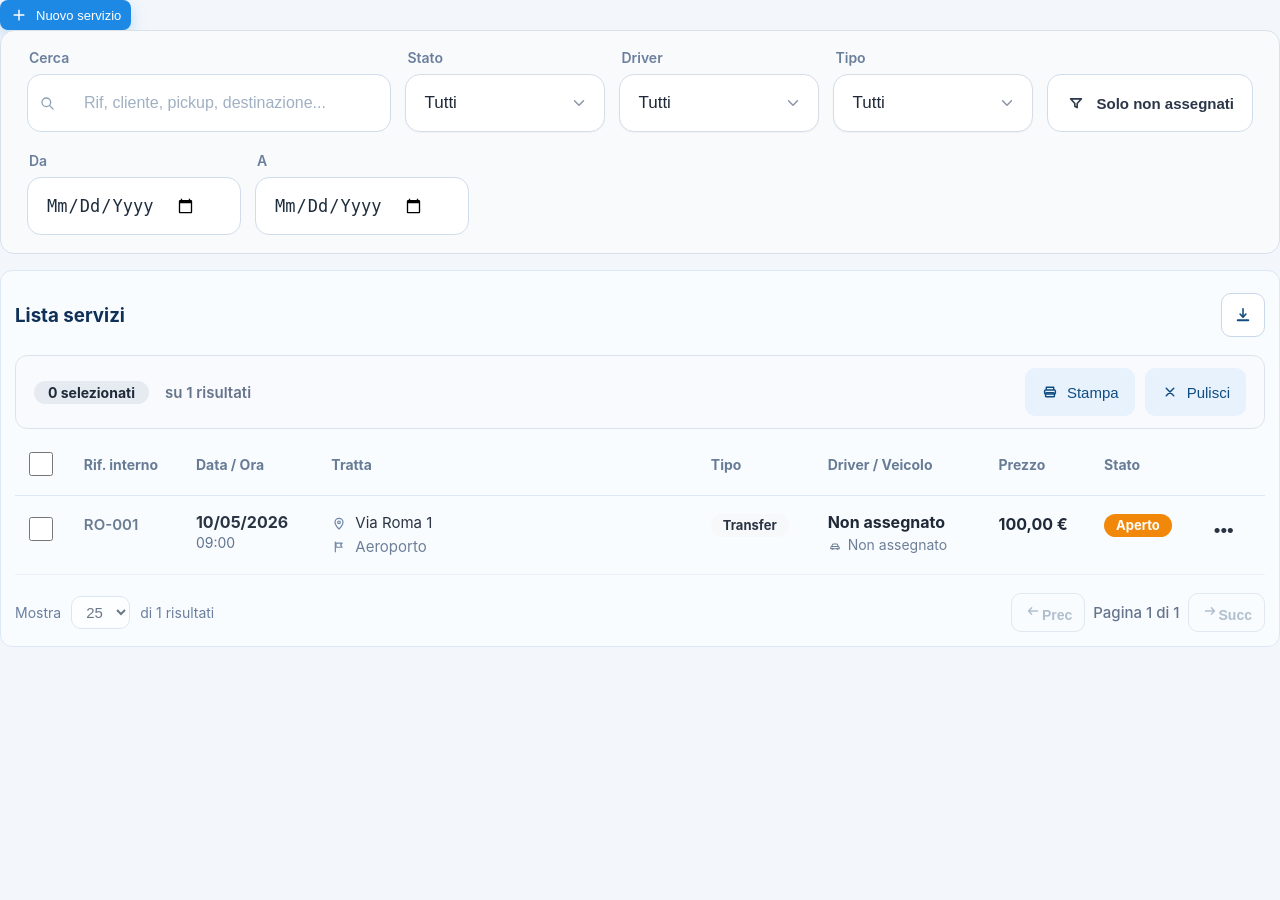
Test: ServicesPanel – checkbox "Ricevuto da partner" › mostra la checkbox "Ricevuto da partner" in modifica per un servizio INCOMING
Click the button named "azioni servizio 1": click(1224, 530) [1208, 514, 1240, 546]
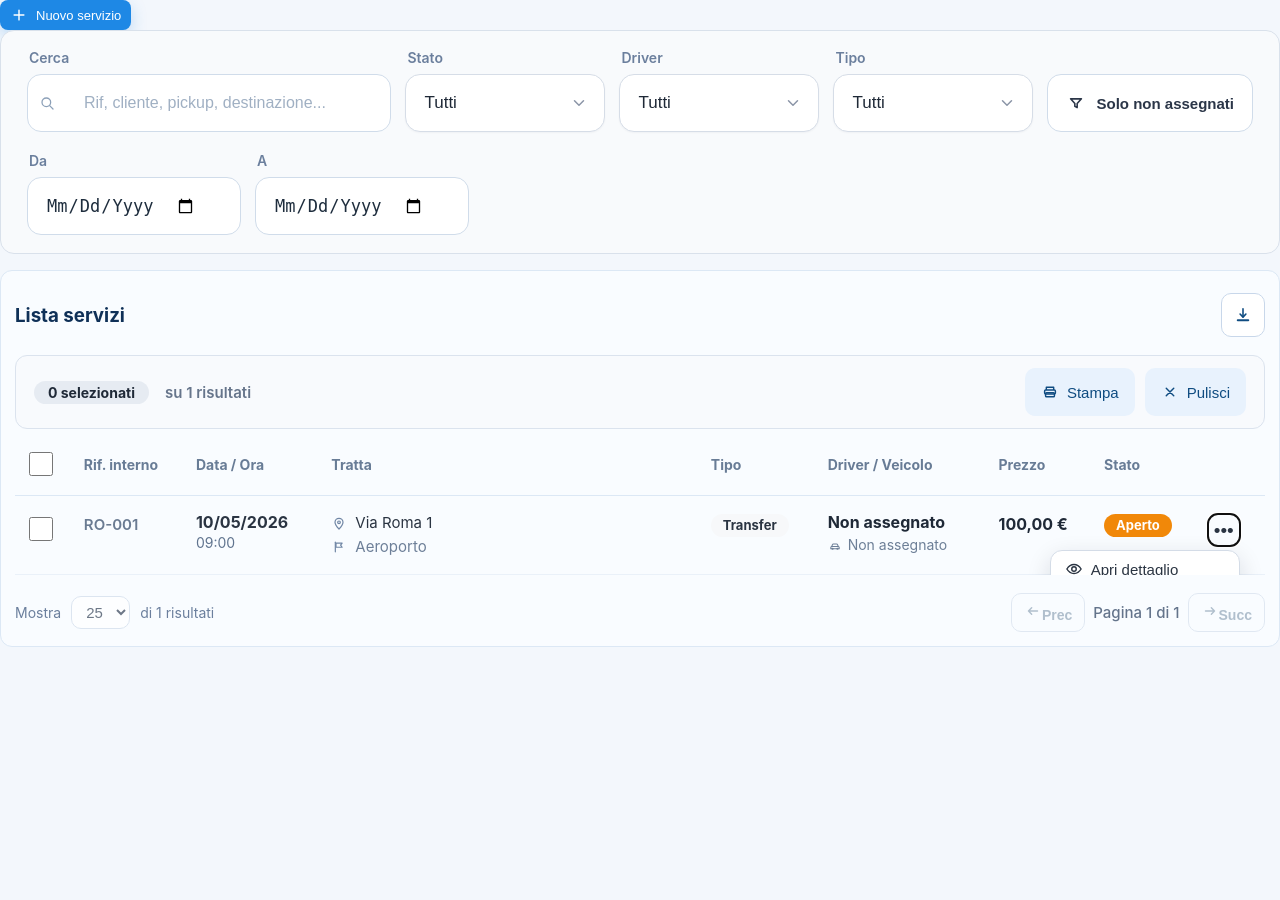
Click the button "Apri dettaglio": click(1145, 569) [1051, 551, 1239, 587]
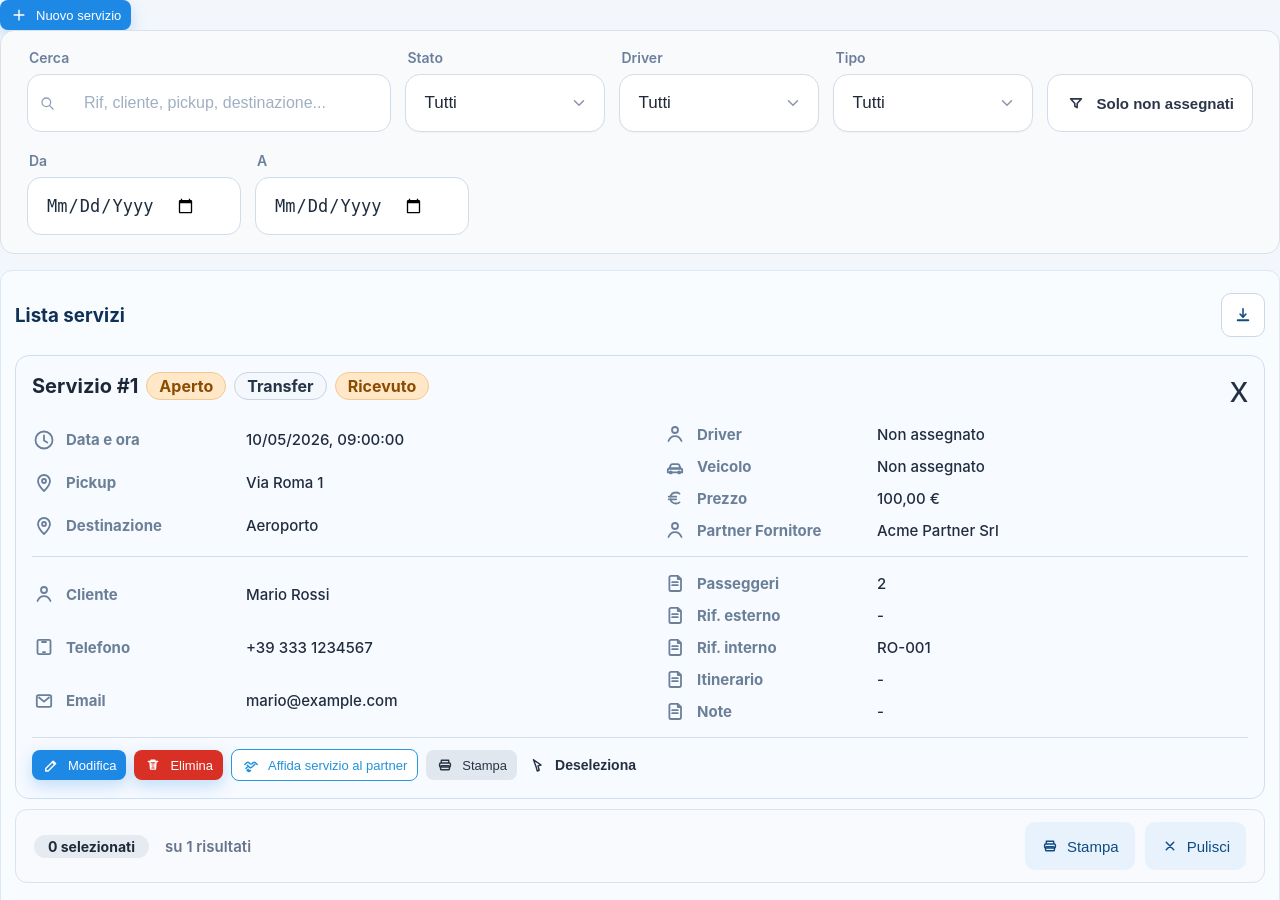
Click the button "Modifica": click(79, 765) [32, 750, 126, 780]
(page scrolled)
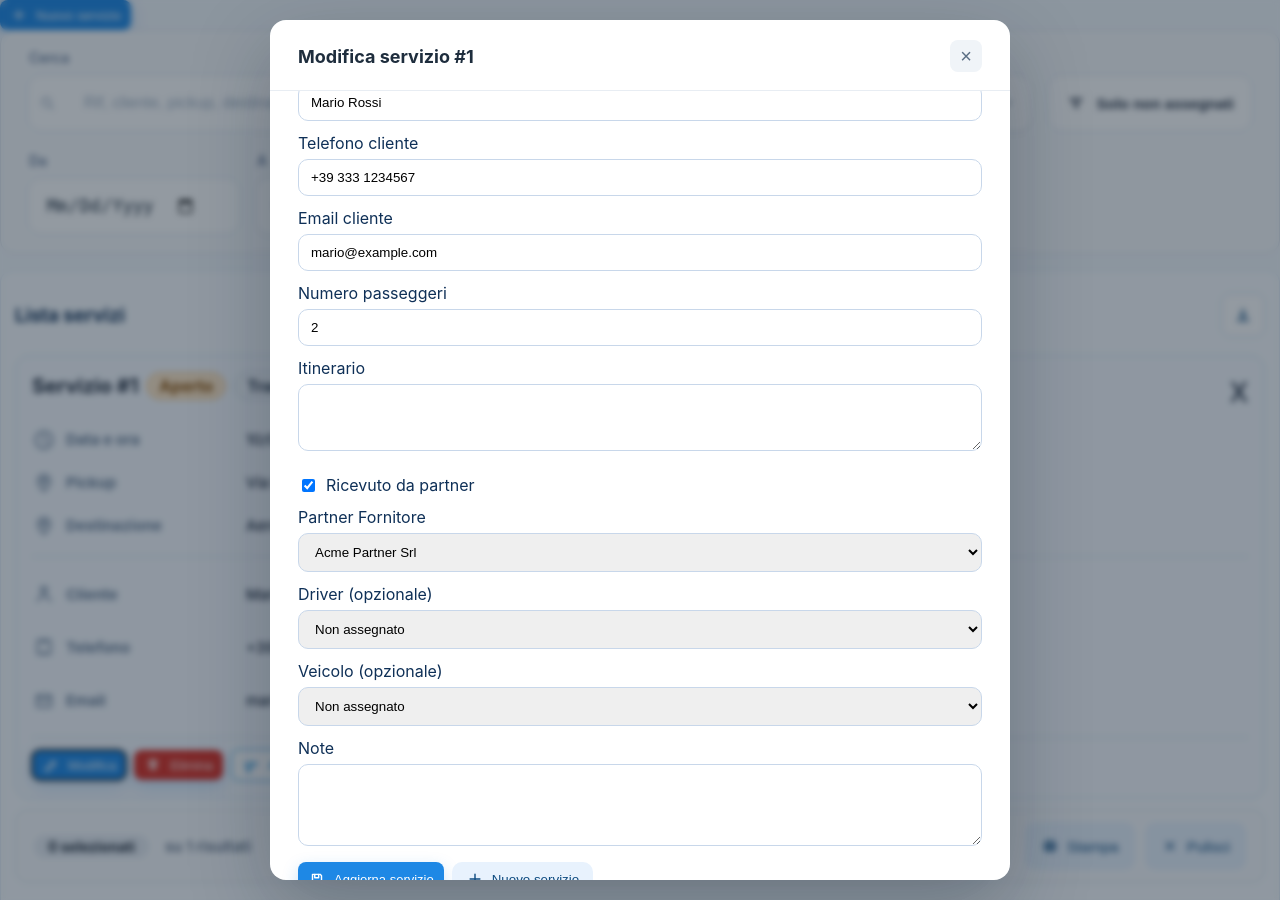
Expected: the checkbox labelled "Ricevuto da partner" is checked, [302, 479, 315, 492]
